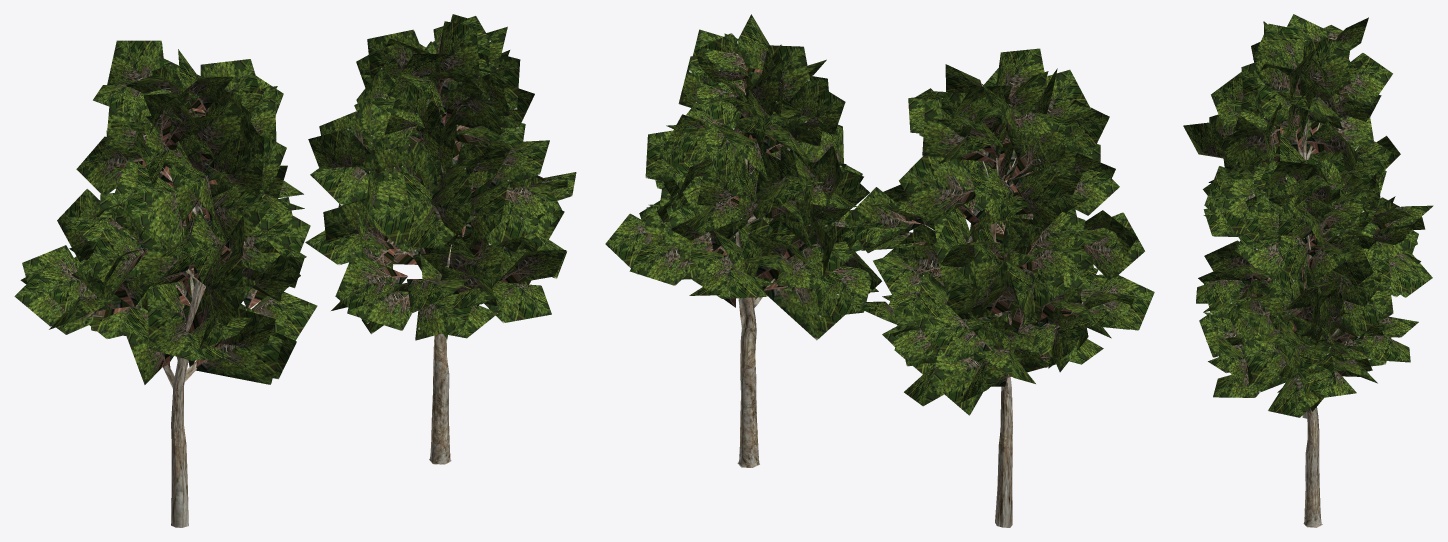
Rendered from tree_low_poly_lowpoly.glb.
3 views of the same model, side by side, from view 1: azimuth 30°, elevation 25°; view 2: azimuth 150°, elevation 25°; view 3: azimuth 270°, elevation 25° (orthographic). The views are drawn at different scales.
Parts seen in each view (by area): view 1: Tree 1_Tree 1_0_Tree_1; view 2: Tree 1_Tree 1_0_Tree_1; view 3: Tree 1_Tree 1_0_Tree_1.
Boxes of the visible parts, x1,y1,x2,y2 form: Tree 1_Tree 1_0_Tree_1: [14, 14, 576, 527]; Tree 1_Tree 1_0_Tree_1: [605, 14, 1154, 527]; Tree 1_Tree 1_0_Tree_1: [1183, 14, 1433, 527].
Bounding box in the file's own units: 10.73 × 8.99 × 5.22.
Materials: 1 (1 with a texture image).
